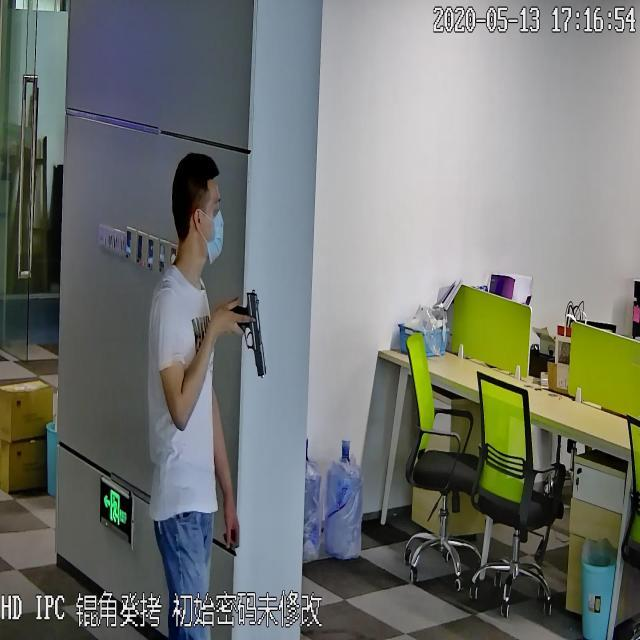gun: (231, 281, 270, 379)
